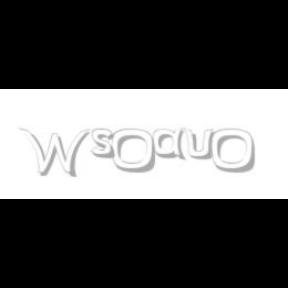O: (112, 128, 156, 174), (212, 128, 256, 174)
W: (18, 128, 90, 178)
a: (154, 128, 190, 160)
s: (91, 128, 119, 160)
u: (182, 128, 217, 160)
